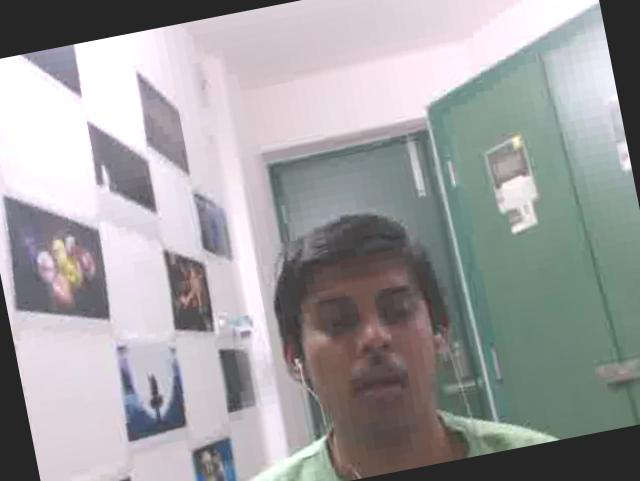bingung: (282, 240, 448, 436)
